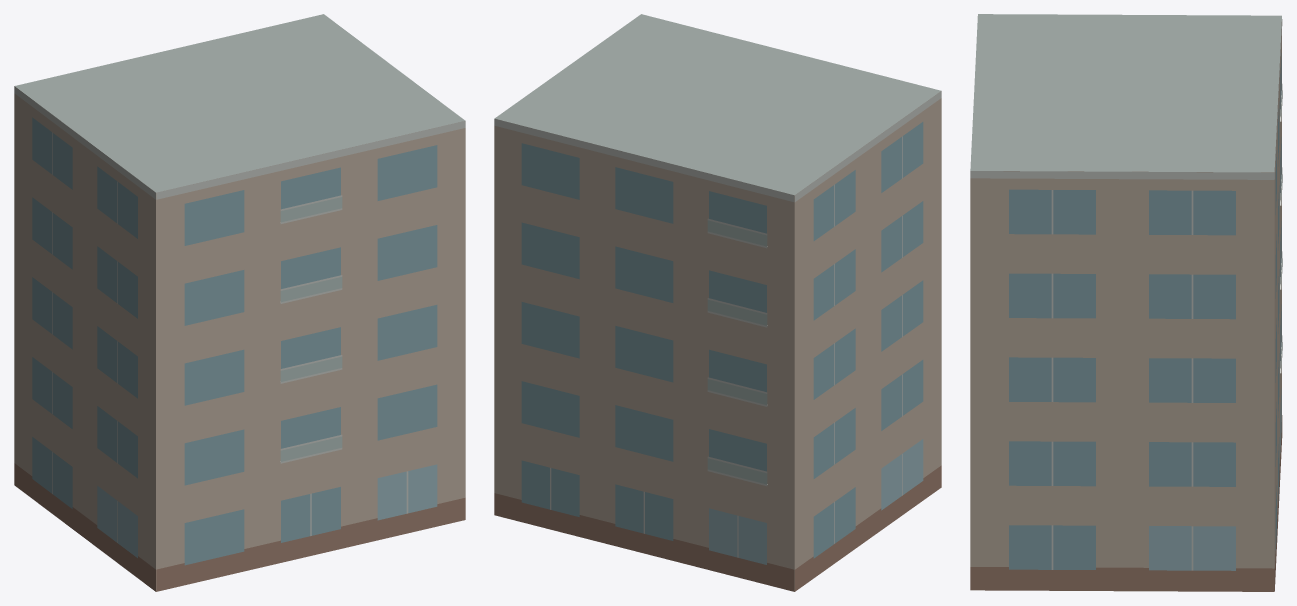
File: survey-upis-32859120.glb
3 views of the same model, side by side, from view 1: azimuth 30°, elevation 25°; view 2: azimuth 150°, elevation 25°; view 3: azimuth 270°, elevation 25° (orthographic). The views are drawn at different scales.
Parts seen in each view (by area): view 1: survey-upis-32859120.tmp; view 2: survey-upis-32859120.tmp; view 3: survey-upis-32859120.tmp.
Boxes of the visible parts, x1=… form: survey-upis-32859120.tmp: x1=14, y1=14, x2=465, y2=591; survey-upis-32859120.tmp: x1=494, y1=14, x2=941, y2=591; survey-upis-32859120.tmp: x1=970, y1=14, x2=1282, y2=591.
Size of the model in its own units: 11.03 by 13.6 by 9.19.
